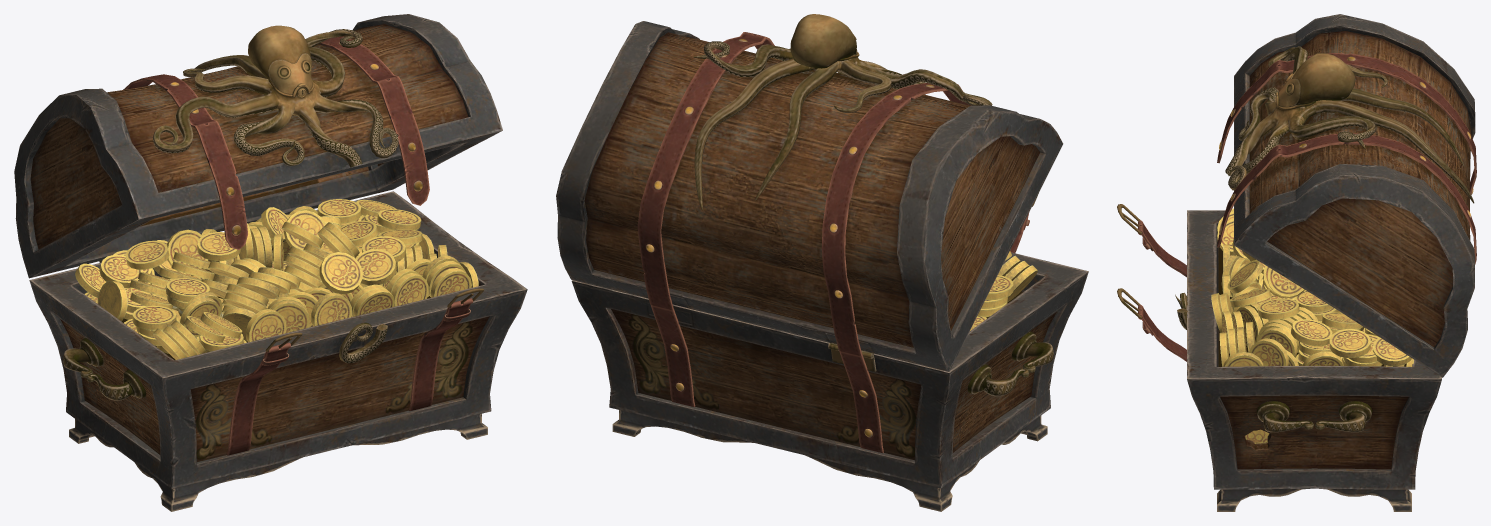
The model's file is open_chest.glb.
The picture shows the model from 3 angles, left to right: view 1: azimuth 30°, elevation 25°; view 2: azimuth 150°, elevation 25°; view 3: azimuth 270°, elevation 25°; orthographic projection. The views are drawn at different scales.
Visible parts, largest first — view 1: treasure; view 2: treasure; view 3: treasure.
Part boxes in pixels (x1=…): treasure: x1=14, y1=14, x2=527, y2=511; treasure: x1=556, y1=14, x2=1088, y2=511; treasure: x1=1117, y1=14, x2=1476, y2=511.
Bounding box in the file's own units: 14.76 × 14.6 × 12.43.
1 material, 1 textured.
